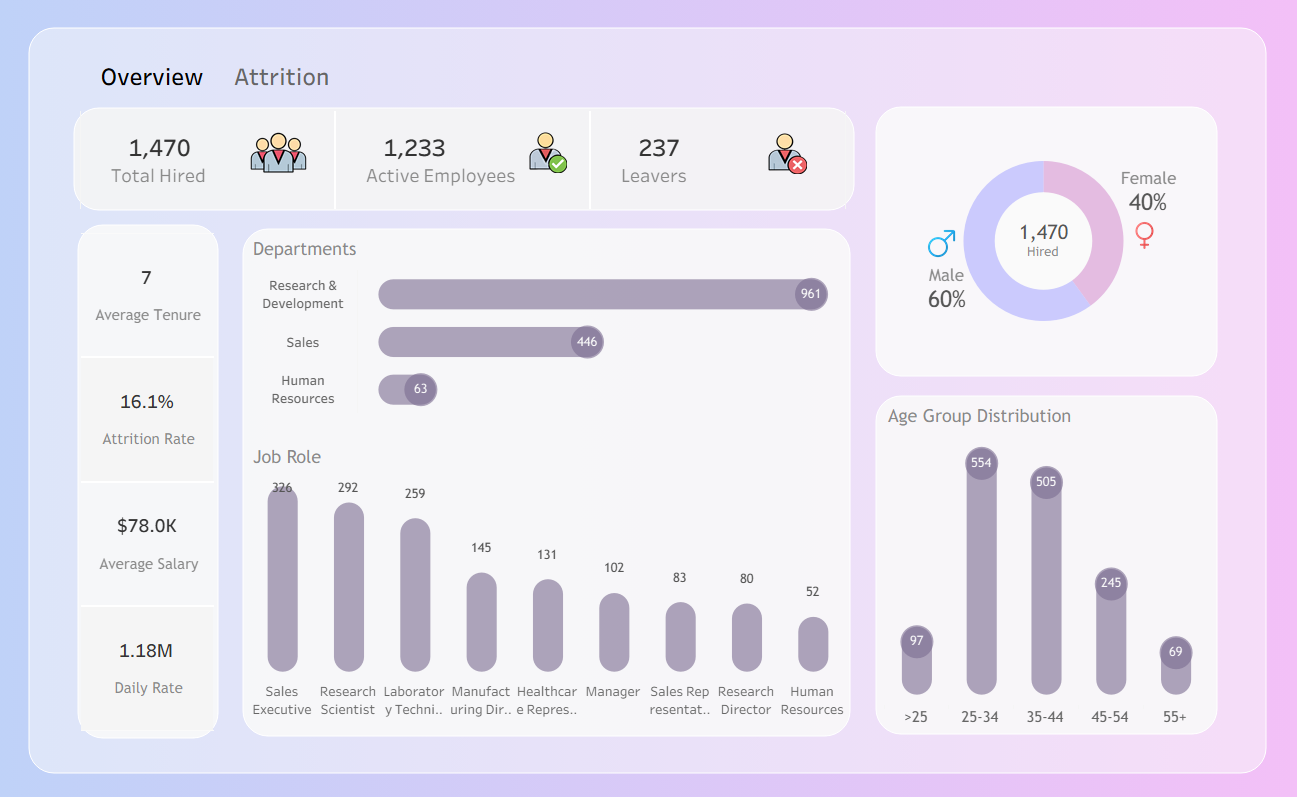

What the dashboard file says about the page in this screenshot:
{"tool":"tableau","page":{"name":"Overview","canvas":[1300,800],"ordinal":1},"visuals":[{"type":"image","param":"Image/Blue - Pink Background.png","box":[0,0,1300,798]},{"type":"worksheet","title":"Ov DBack","mark":"Automatic","box":[0,0,1300,800]},{"type":"text","box":[90,53,130,46]},{"type":"dashboard-object","box":[220,53,130,46]},{"type":"worksheet","title":"kpi","mark":"Automatic","box":[83,111,766,98]},{"type":"worksheet","title":"Gender","mark":"Pie","cols":["Calculation_0766660180422659","Calculation_0766660180422659"],"box":[879,114,335,254]},{"type":"image","param":"Image/ChatGPT Image Jan 11, 2026, 10_38_55 AM.png","box":[249,120,70,64]},{"type":"image","param":"Image/1000047006.png","box":[532,132,41,41]},{"type":"image","param":"Image/1000047005 1.png","box":[771,133,41,41]},{"type":"image","param":"Image/female_10050726 1.png","box":[1131,219,32,35]},{"type":"image","param":"Image/male_10050749 1.png","box":[928,227,32,35]},{"type":"worksheet","title":"vertical kpis","mark":"Automatic","box":[84,233,133,498]},{"type":"worksheet","title":"Departments","mark":"Line","rows":["Department"],"box":[252,234,598,179]},{"type":"worksheet","title":"Age Group Distribution","mark":"Line","cols":["Calculation_0766660191571972"],"box":[887,401,324,326]},{"type":"worksheet","title":"Job Role","mark":"Line","cols":["JobRole"],"box":[252,442,597,291]}]}

Visuals, with their boxes in screenshot pixels (x1, y1, x2, y2), scaled from the page's 1300x800 canvas onto the 1298x797 screenshot:
image: bbox=[0, 0, 1297, 795]
"Ov DBack" worksheet: bbox=[0, 0, 1297, 796]
text: bbox=[90, 53, 220, 99]
dashboard-object: bbox=[220, 53, 349, 99]
"kpi" worksheet: bbox=[83, 111, 848, 208]
"Gender" worksheet (Pie marks): bbox=[878, 114, 1212, 367]
image: bbox=[249, 120, 319, 183]
image: bbox=[531, 132, 572, 172]
image: bbox=[770, 133, 811, 173]
image: bbox=[1129, 218, 1161, 253]
image: bbox=[927, 226, 959, 261]
"vertical kpis" worksheet: bbox=[84, 232, 217, 728]
"Departments" worksheet (Line marks): bbox=[252, 233, 849, 411]
"Age Group Distribution" worksheet (Line marks): bbox=[886, 399, 1209, 724]
"Job Role" worksheet (Line marks): bbox=[252, 440, 848, 730]
